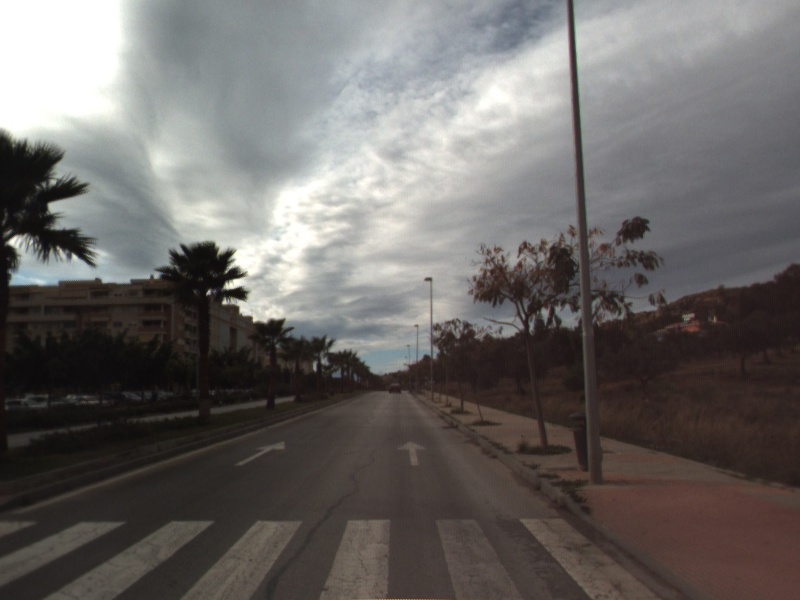STRAIGHT: (232, 439, 288, 468), (395, 438, 429, 467)
